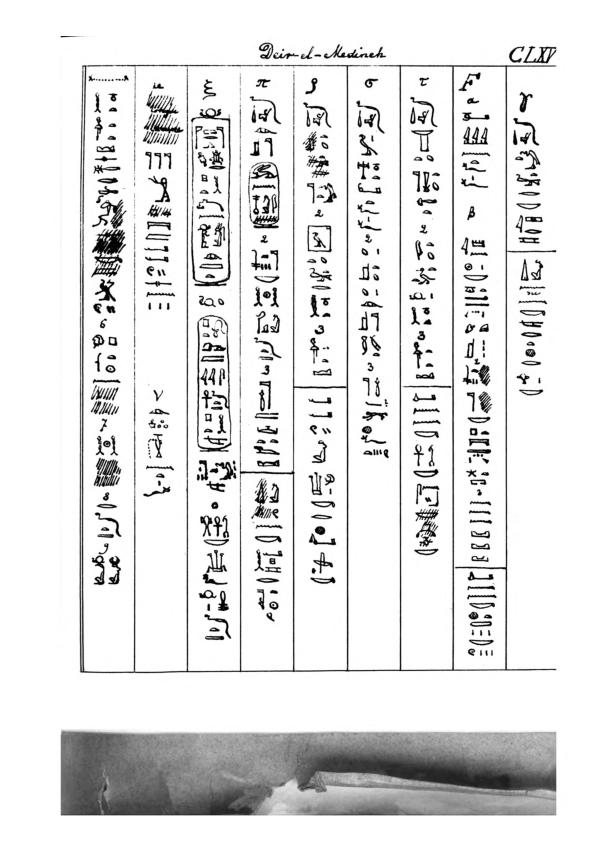circle: (192, 107, 231, 289), (195, 313, 234, 453), (246, 160, 283, 230)
